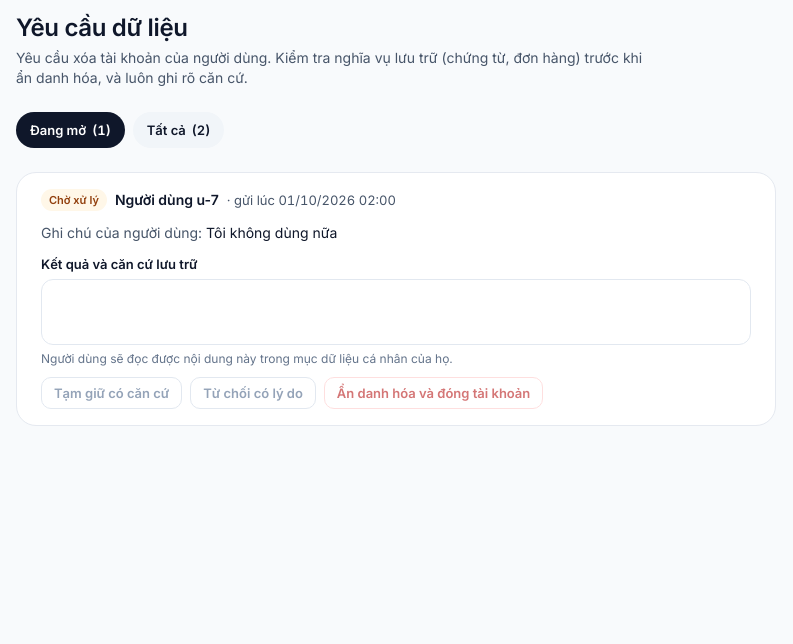
Scenario: AdminPrivacy (queue moved out of DataRightsPanel) › lists open requests and resolves one with PUT /privacy/requests/{userId} {status, resolution}
Check: the link "Người dùng u-7" is shown, box [115,190,219,210]
Check: the text "Người dùng u-8" is not shown
Type "Còn đơn hàng chưa đối soát" into the text box labelled "Kết quả và căn cứ lưu trữ". click: (396, 312)
box: [41,279,751,345]
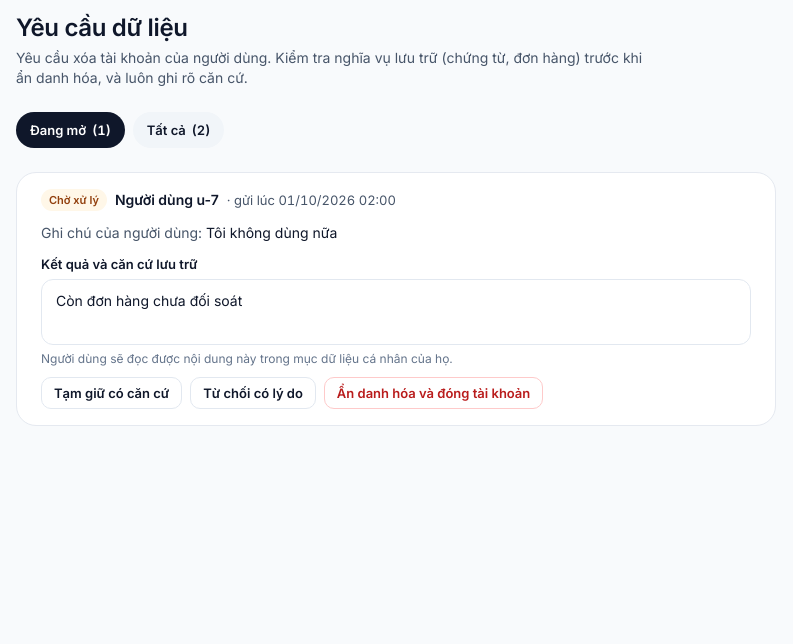
Click the button "Tạm giữ có căn cứ". click: (112, 393)
box: [41,377,182,409]
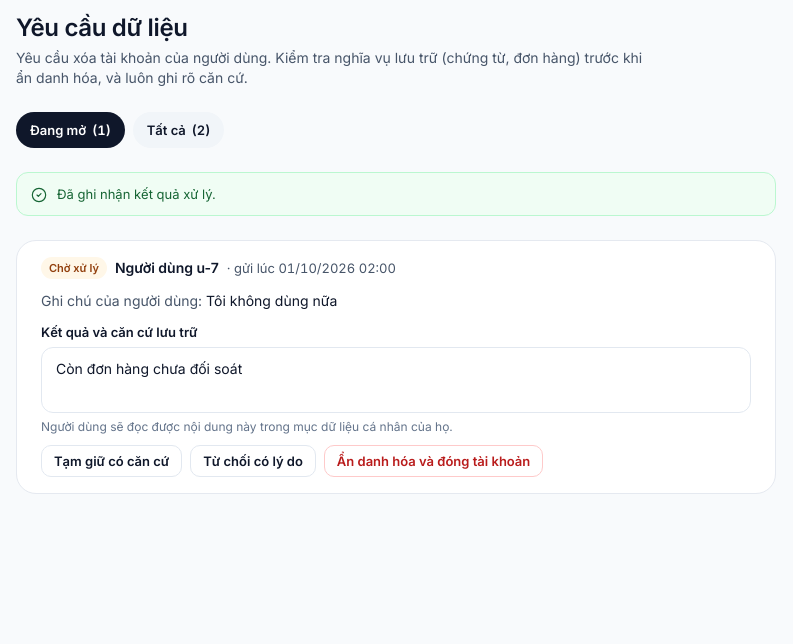
Check: the text "Đã ghi nhận kết quả xử lý." is shown, box [57,186,216,202]
Click the button "Tất cả (2)". click: (179, 130)
box: [133,112,224,148]
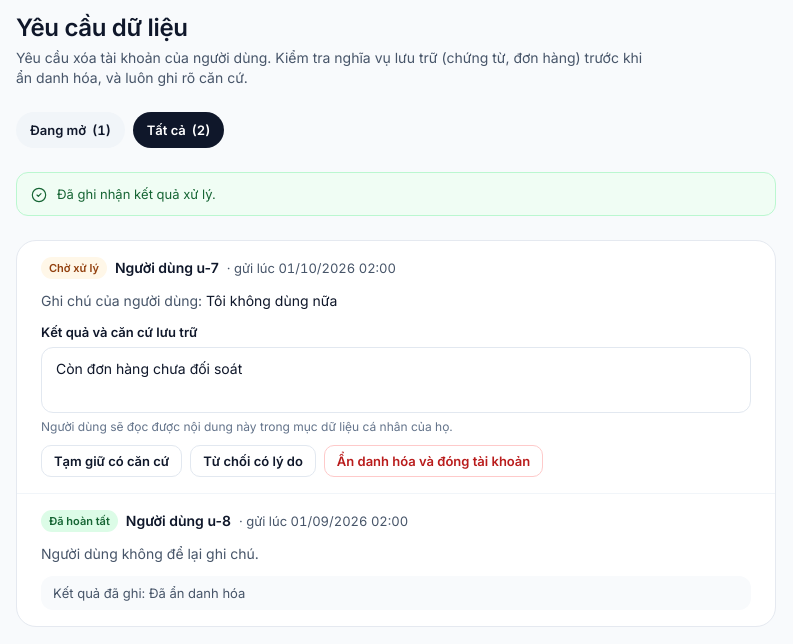
Check: the link "Người dùng u-8" is shown, box [126,511,231,531]
